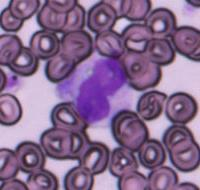N: (78, 57, 132, 126)
